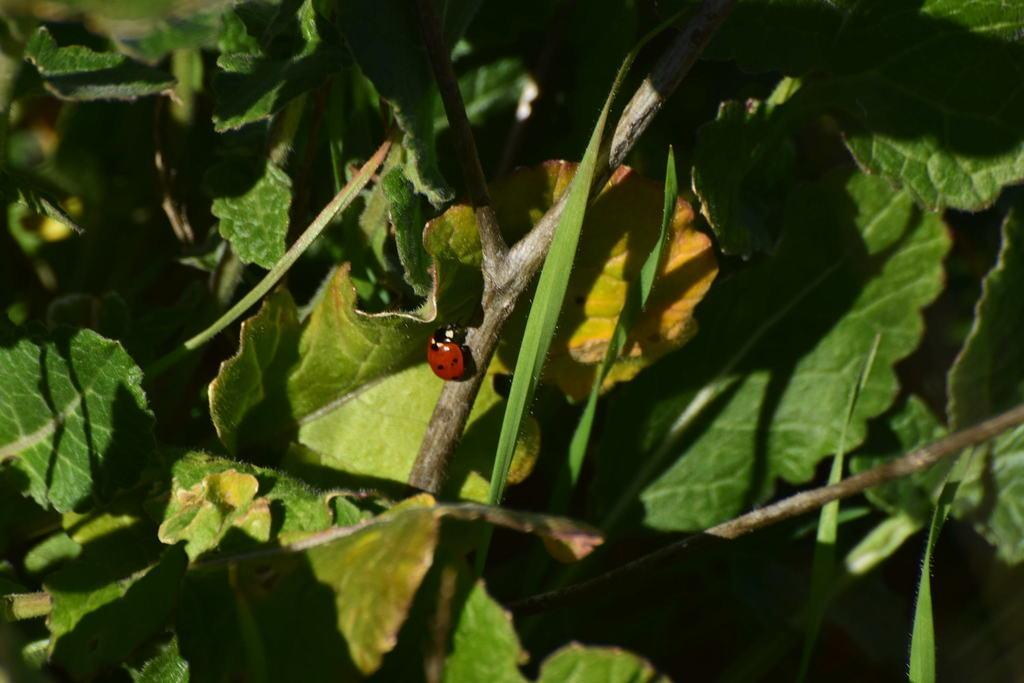ladybug: (427, 321, 471, 382)
